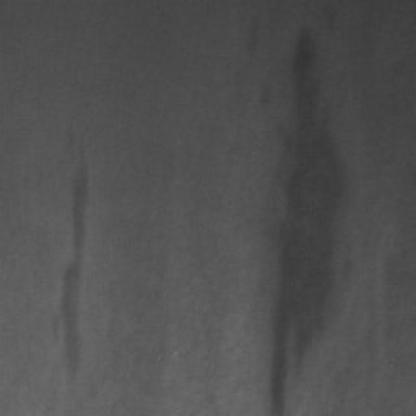inclusion: (262, 20, 352, 410), (40, 131, 92, 381)
